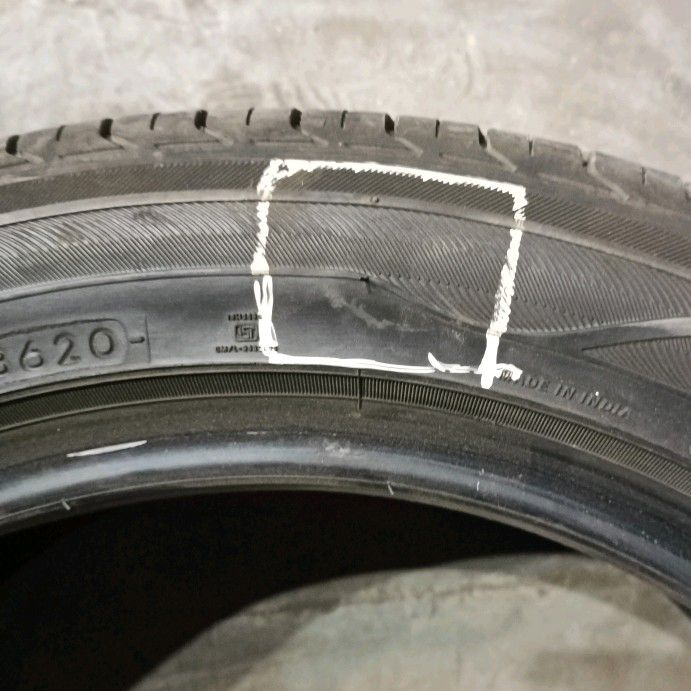cut: (358, 274, 373, 297)
